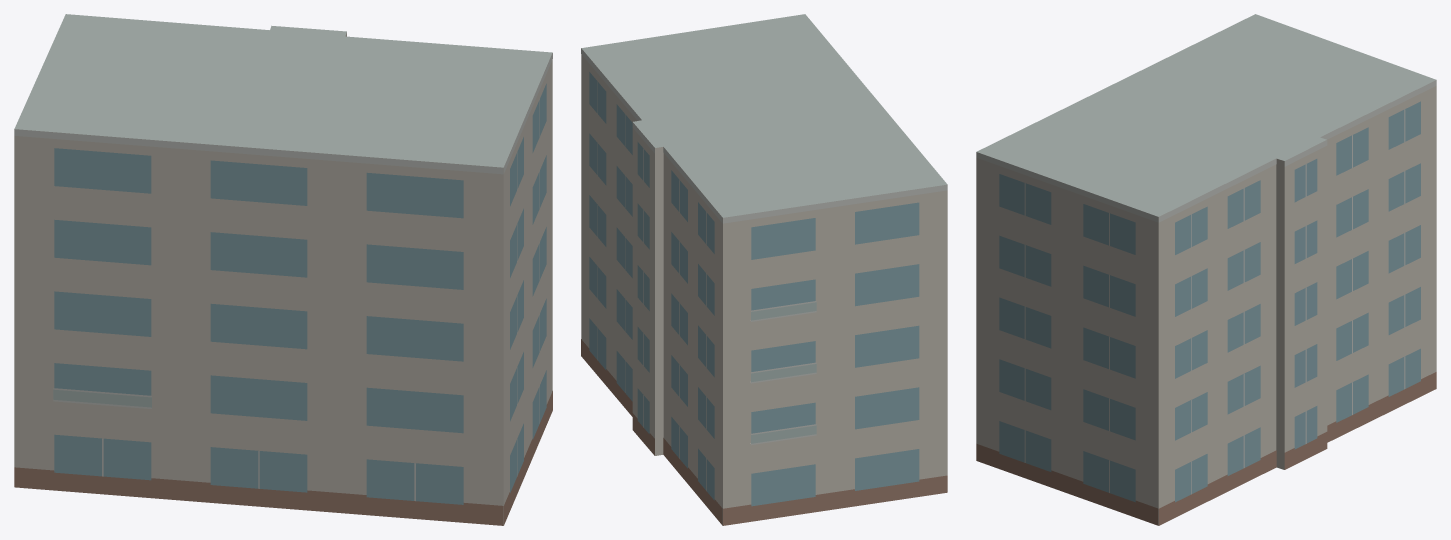
The model's file is survey-upis-32693420.glb.
The picture shows the model from 3 angles, left to right: view 1: azimuth 30°, elevation 25°; view 2: azimuth 150°, elevation 25°; view 3: azimuth 270°, elevation 25°; orthographic projection. The views are drawn at different scales.
Parts seen in each view (by area): view 1: survey-upis-32693420.tmp; view 2: survey-upis-32693420.tmp; view 3: survey-upis-32693420.tmp.
Boxes of the visible parts, x1,y1,x2,y2 form: survey-upis-32693420.tmp: (14,14,552,525); survey-upis-32693420.tmp: (581,14,947,525); survey-upis-32693420.tmp: (976,14,1436,525).
Bounding box in the file's own units: 18.32 × 13 × 17.56.
